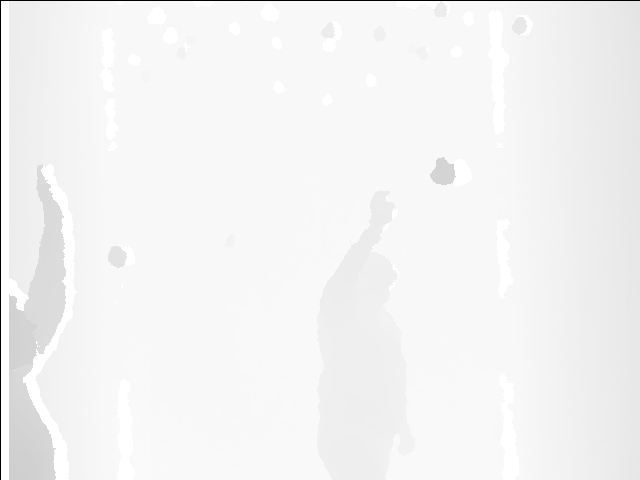hand: (34, 161, 66, 213), (368, 185, 400, 232)
